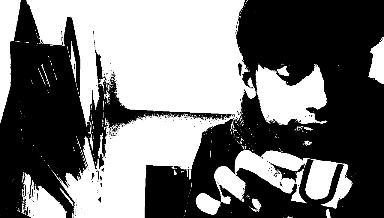U: (295, 157, 343, 205)
